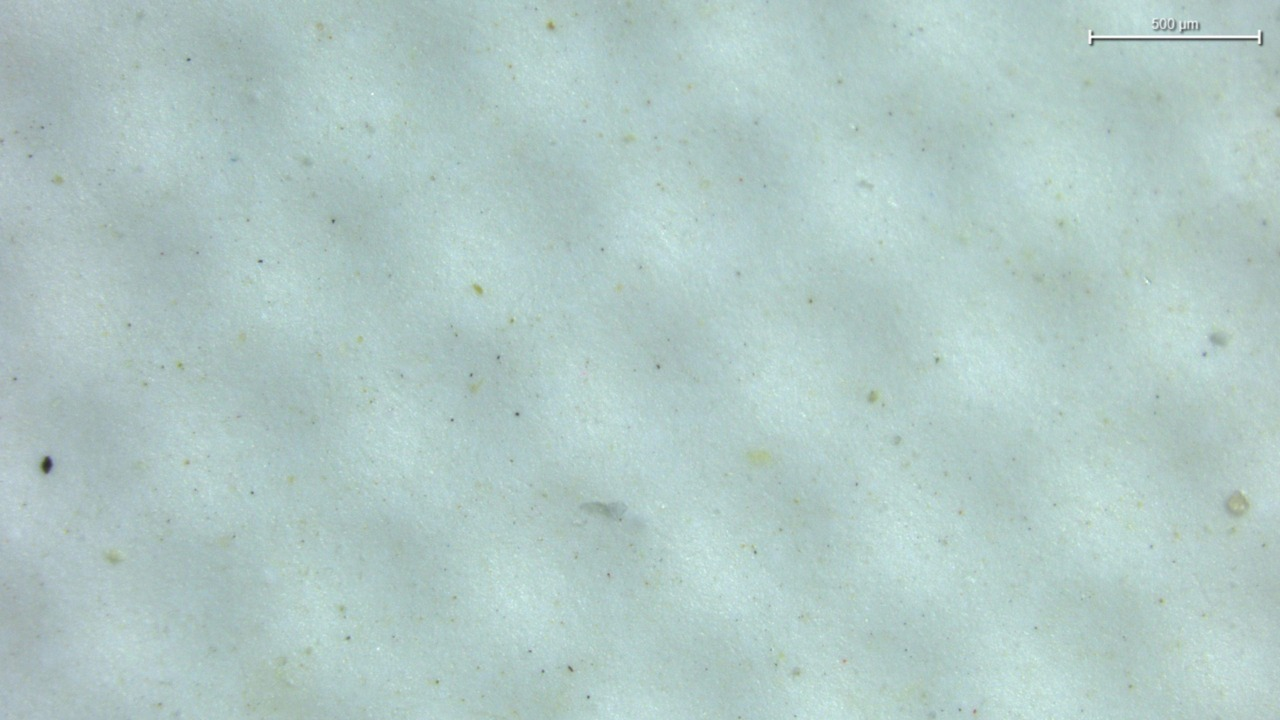microplastic_fragment: (581, 501, 626, 520)
